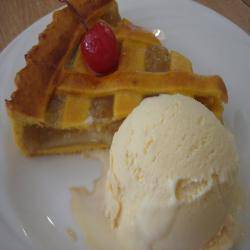apple_pie: (12, 2, 238, 161)
icecream: (99, 96, 239, 239)
